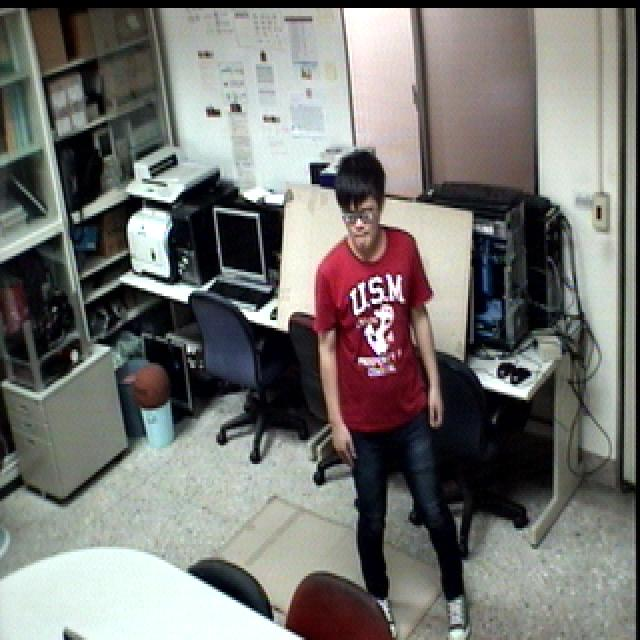stand: (298, 139, 476, 640)
